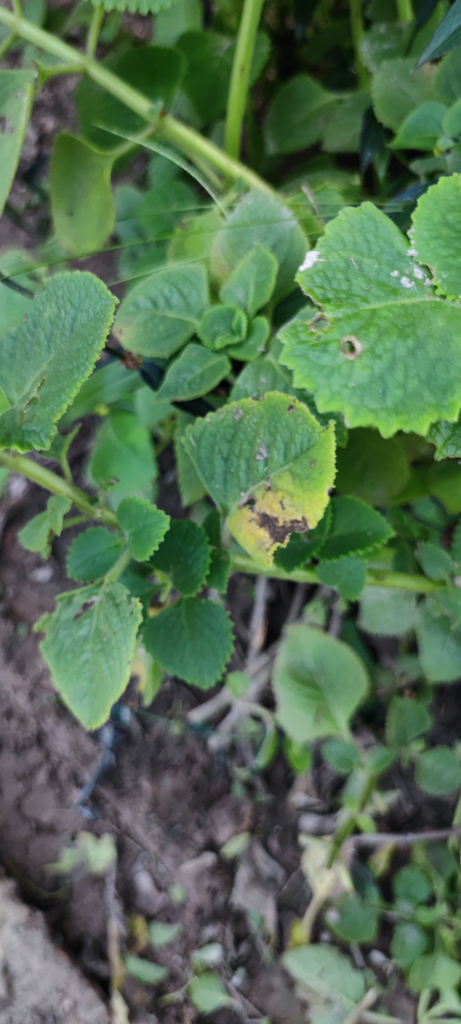Pepper yellow leaf: (210, 468, 330, 564)
